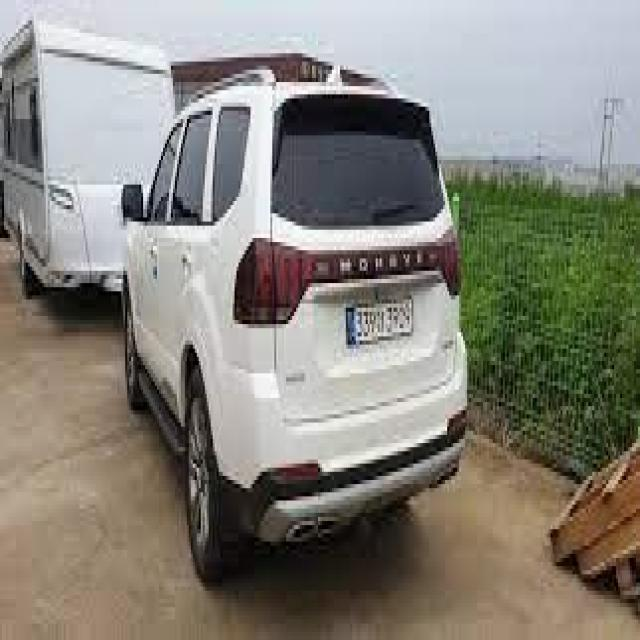car: (115, 53, 477, 584)
illegal_plate: (347, 302, 413, 351)
